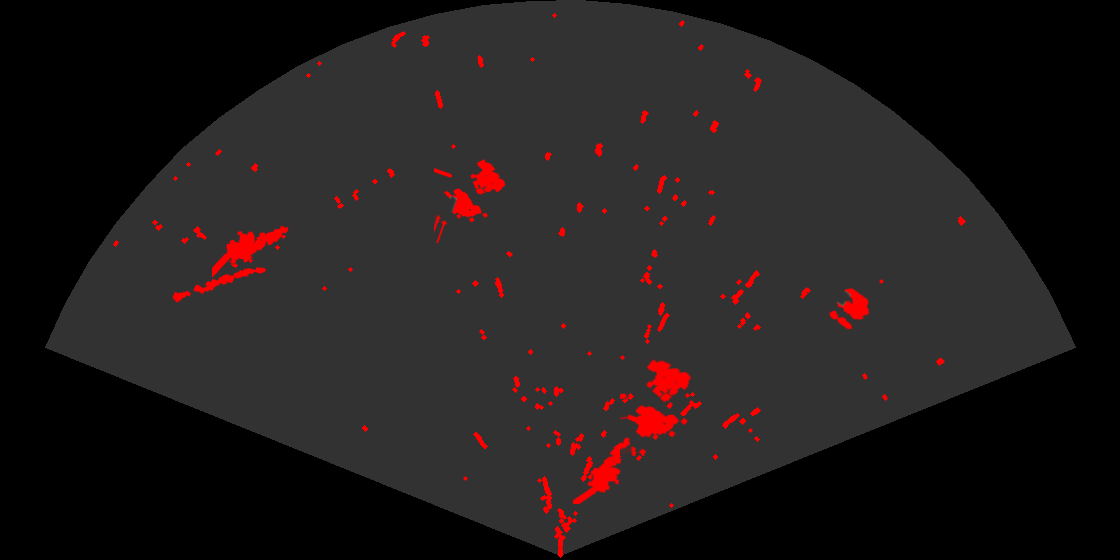ball: (827, 286, 871, 331)
cage: (620, 357, 693, 456), (434, 158, 507, 243)
chain: (171, 266, 268, 304)
frogman: (212, 224, 290, 279), (573, 436, 632, 504)
